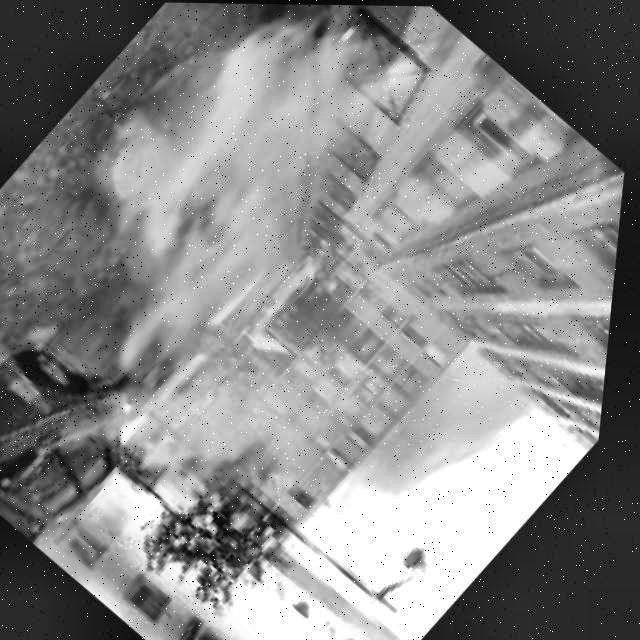Smoke: (0, 3, 628, 640)
